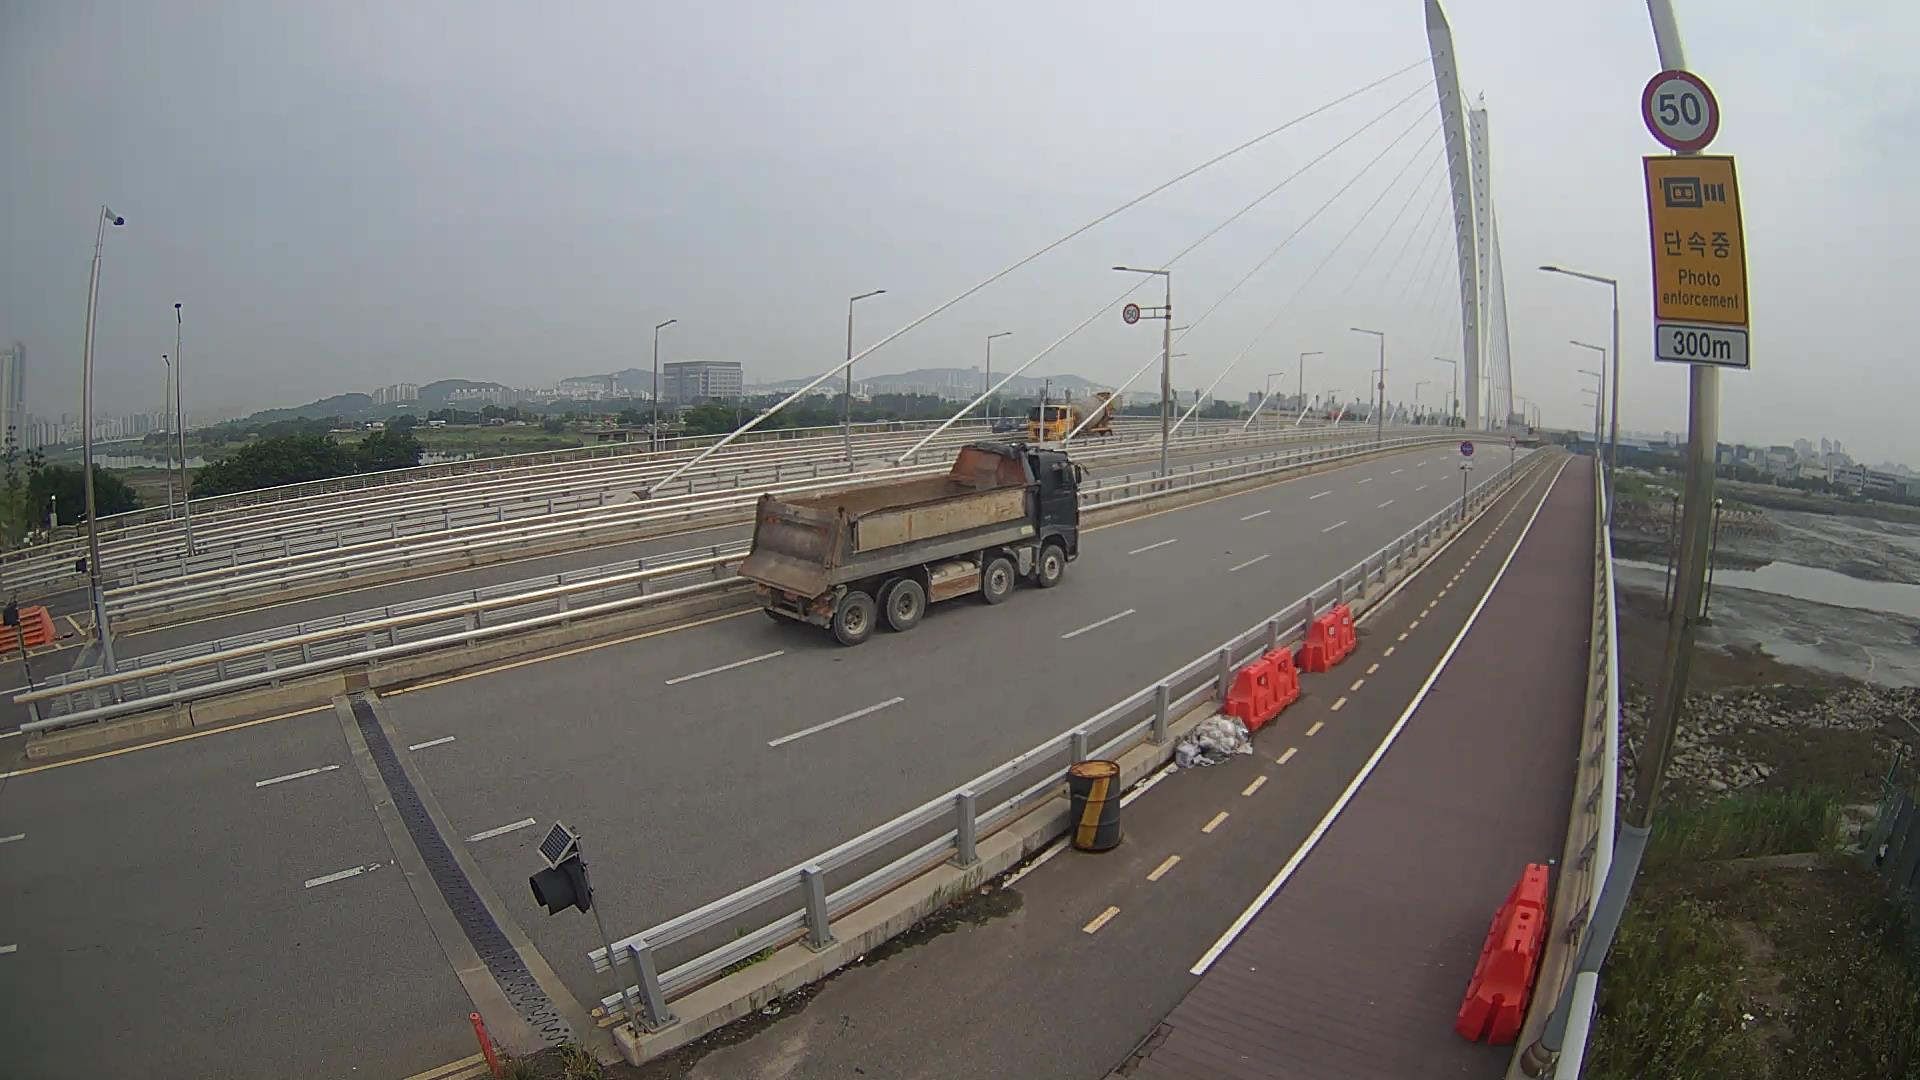정상차량: (737, 442, 1089, 646)
